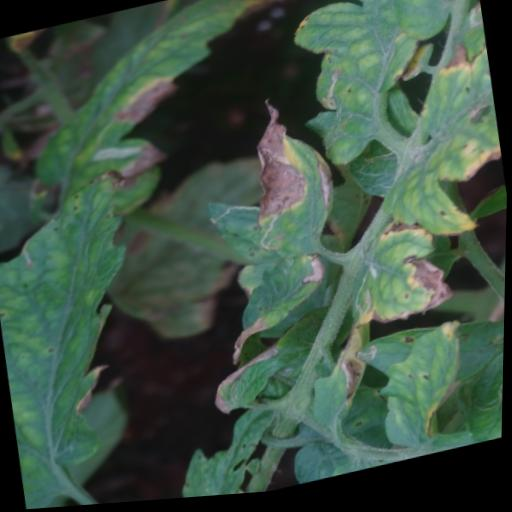Early Blight: (235, 87, 349, 272)
